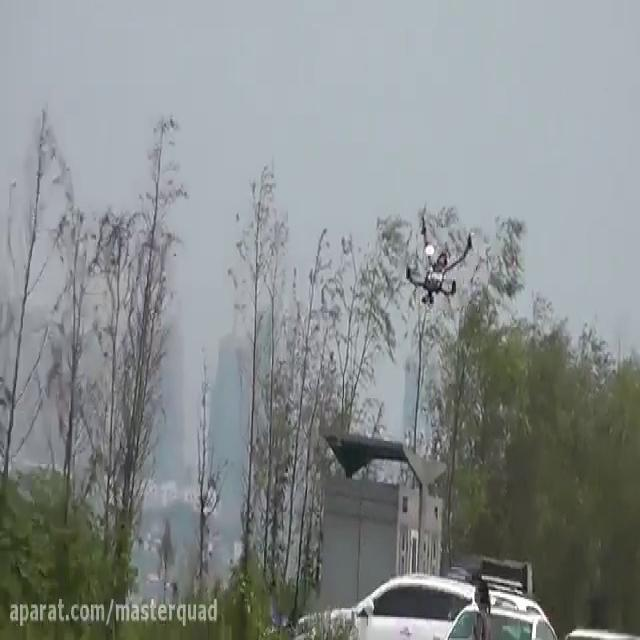drone: (396, 210, 477, 309)
